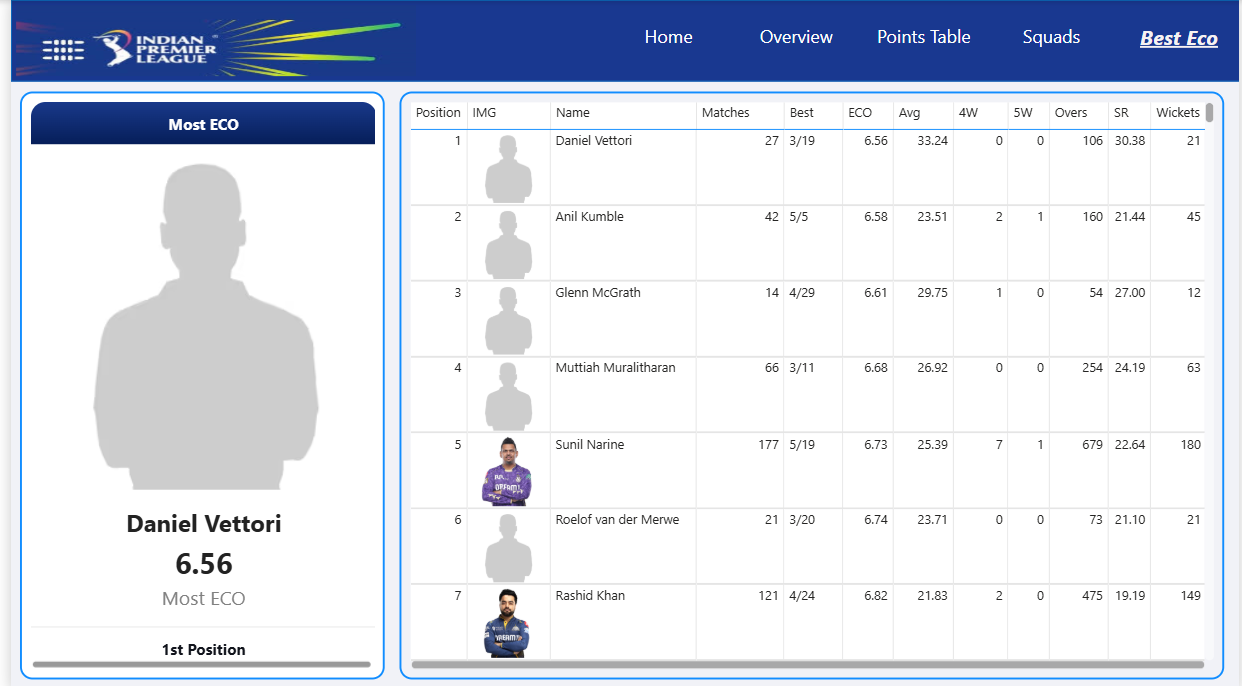

What the dashboard file says about the page in this screenshot:
{"tool":"powerbi","page":{"name":"Best Eco","canvas":[1280,720],"ordinal":11},"visuals":[{"type":"shape","box":[0,0,2000.6,85],"z":0},{"type":"image","box":[0,0,426.7,84.4],"z":1000},{"type":"pageNavigator","box":[623.6,12.5,656.5,50],"z":2000},{"type":"htmlContent443BE3AD55E043BF878BED274D3A6855","fields":{"content":["Records.Top_Players"]},"box":[9.4,95.3,379.8,612.7],"z":3000},{"type":"tableEx","fields":{"Values":["BestEco.Position","BestEco.IMG","BestEco.Name","BestEco.Mat","BestEco.BBI","BestEco.ECO","BestEco.Avg","BestEco.4W","BestEco.5W","BestEco.Ov","BestEco.SR","BestEco.Wickets"]},"box":[404.8,95.3,859.6,612.7],"z":4000}]}

Visuals, with their boxes in screenshot pixels (x1, y1, x2, y2), scaled from the page's 1280x720 canvas onto the 1242x686 screenshot:
shape: l=0, t=0, r=1241, b=81
image: l=0, t=0, r=414, b=80
pageNavigator: l=605, t=12, r=1241, b=60
htmlContent443BE3AD55E043BF878BED274D3A6855 - Records.Top_Players: l=9, t=91, r=378, b=675
tableEx - BestEco.Position x BestEco.IMG: l=393, t=91, r=1227, b=675
